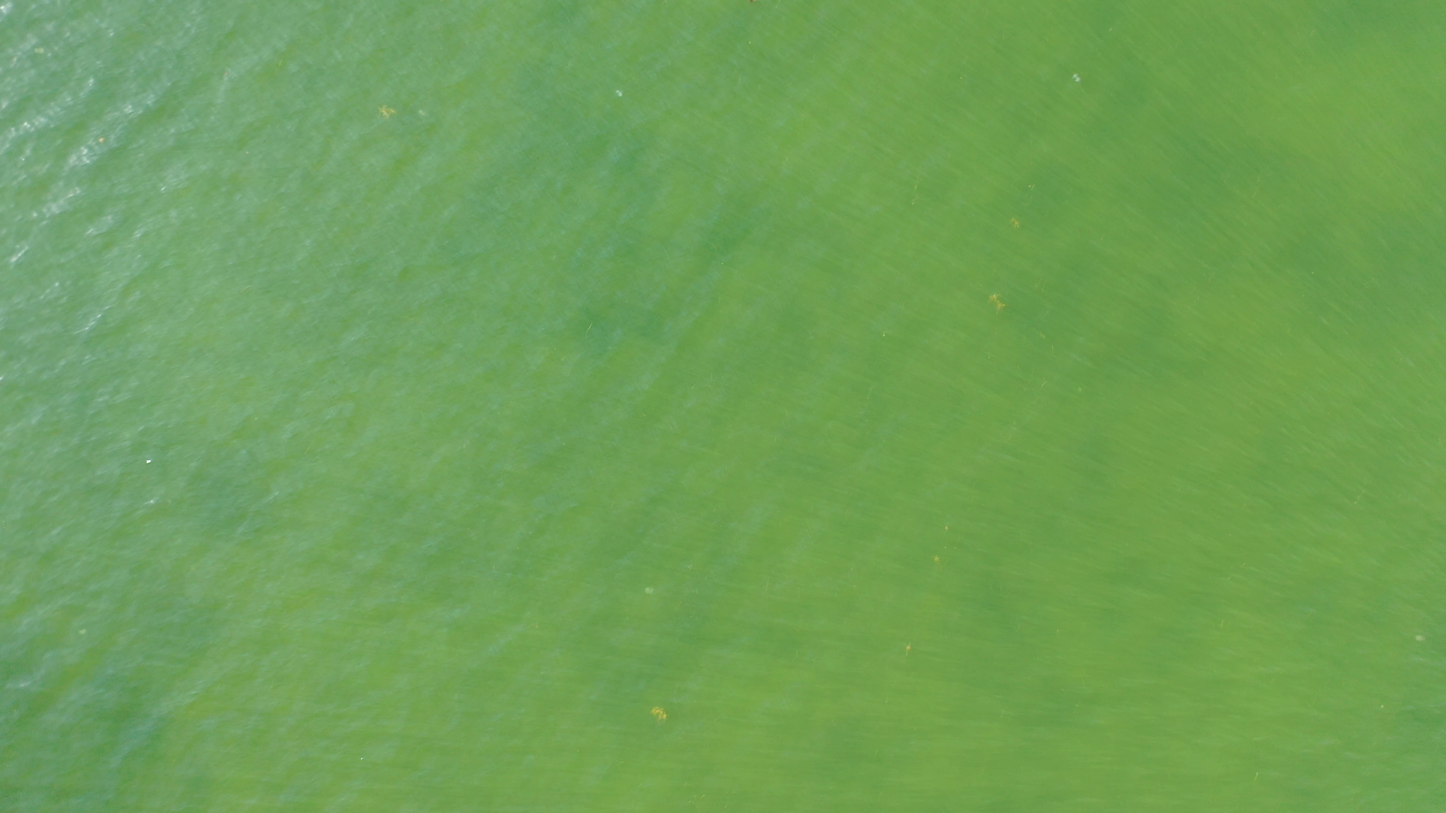meduse: (417, 108, 427, 117), (1073, 72, 1081, 82), (646, 586, 654, 594), (1416, 636, 1425, 643), (615, 91, 625, 97)
